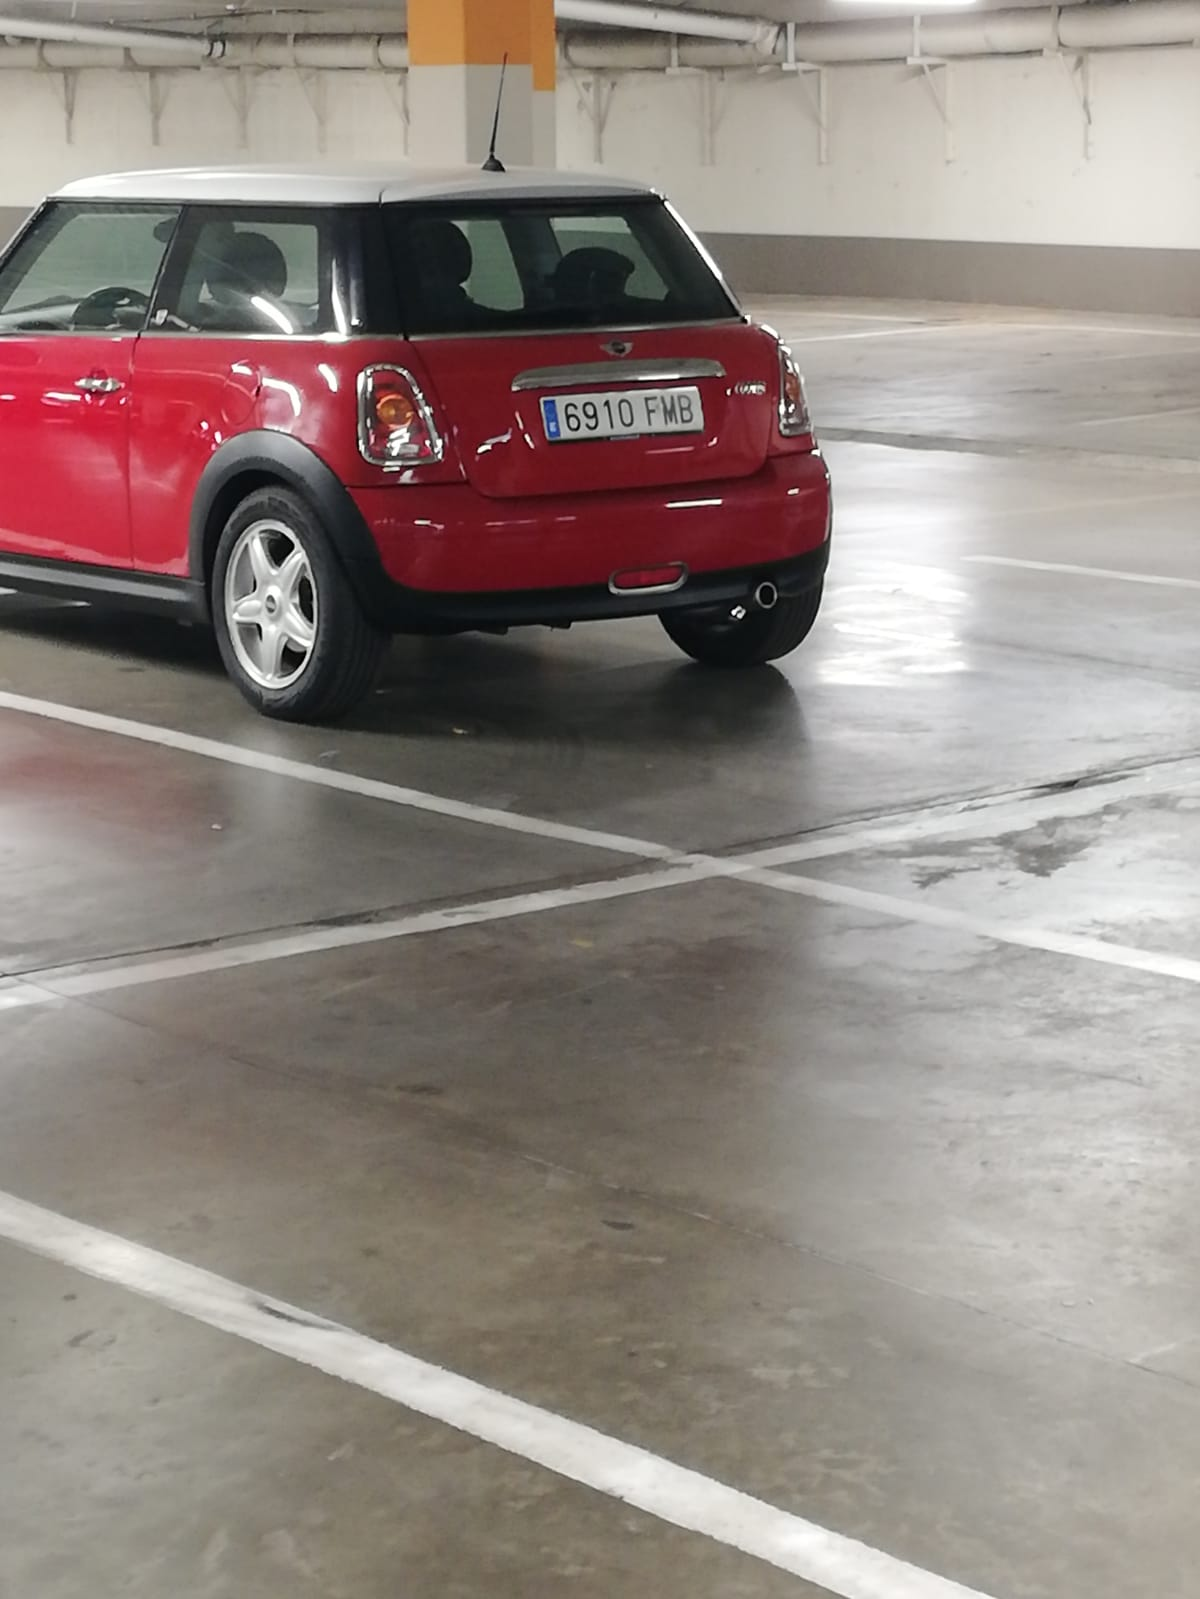Car: (0, 170, 838, 676)
Plate: (538, 396, 703, 442)
